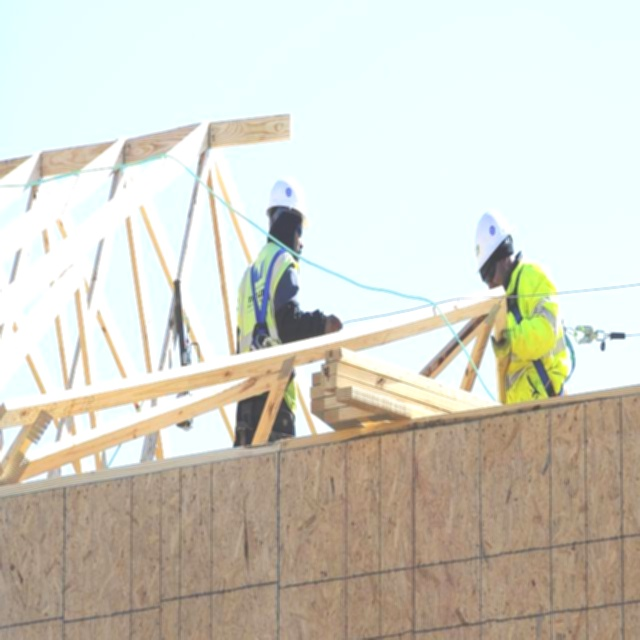goggles: (135, 248, 165, 292)
helmet: (328, 173, 377, 238), (125, 204, 168, 276)
vest: (70, 271, 131, 392), (343, 239, 404, 345)
